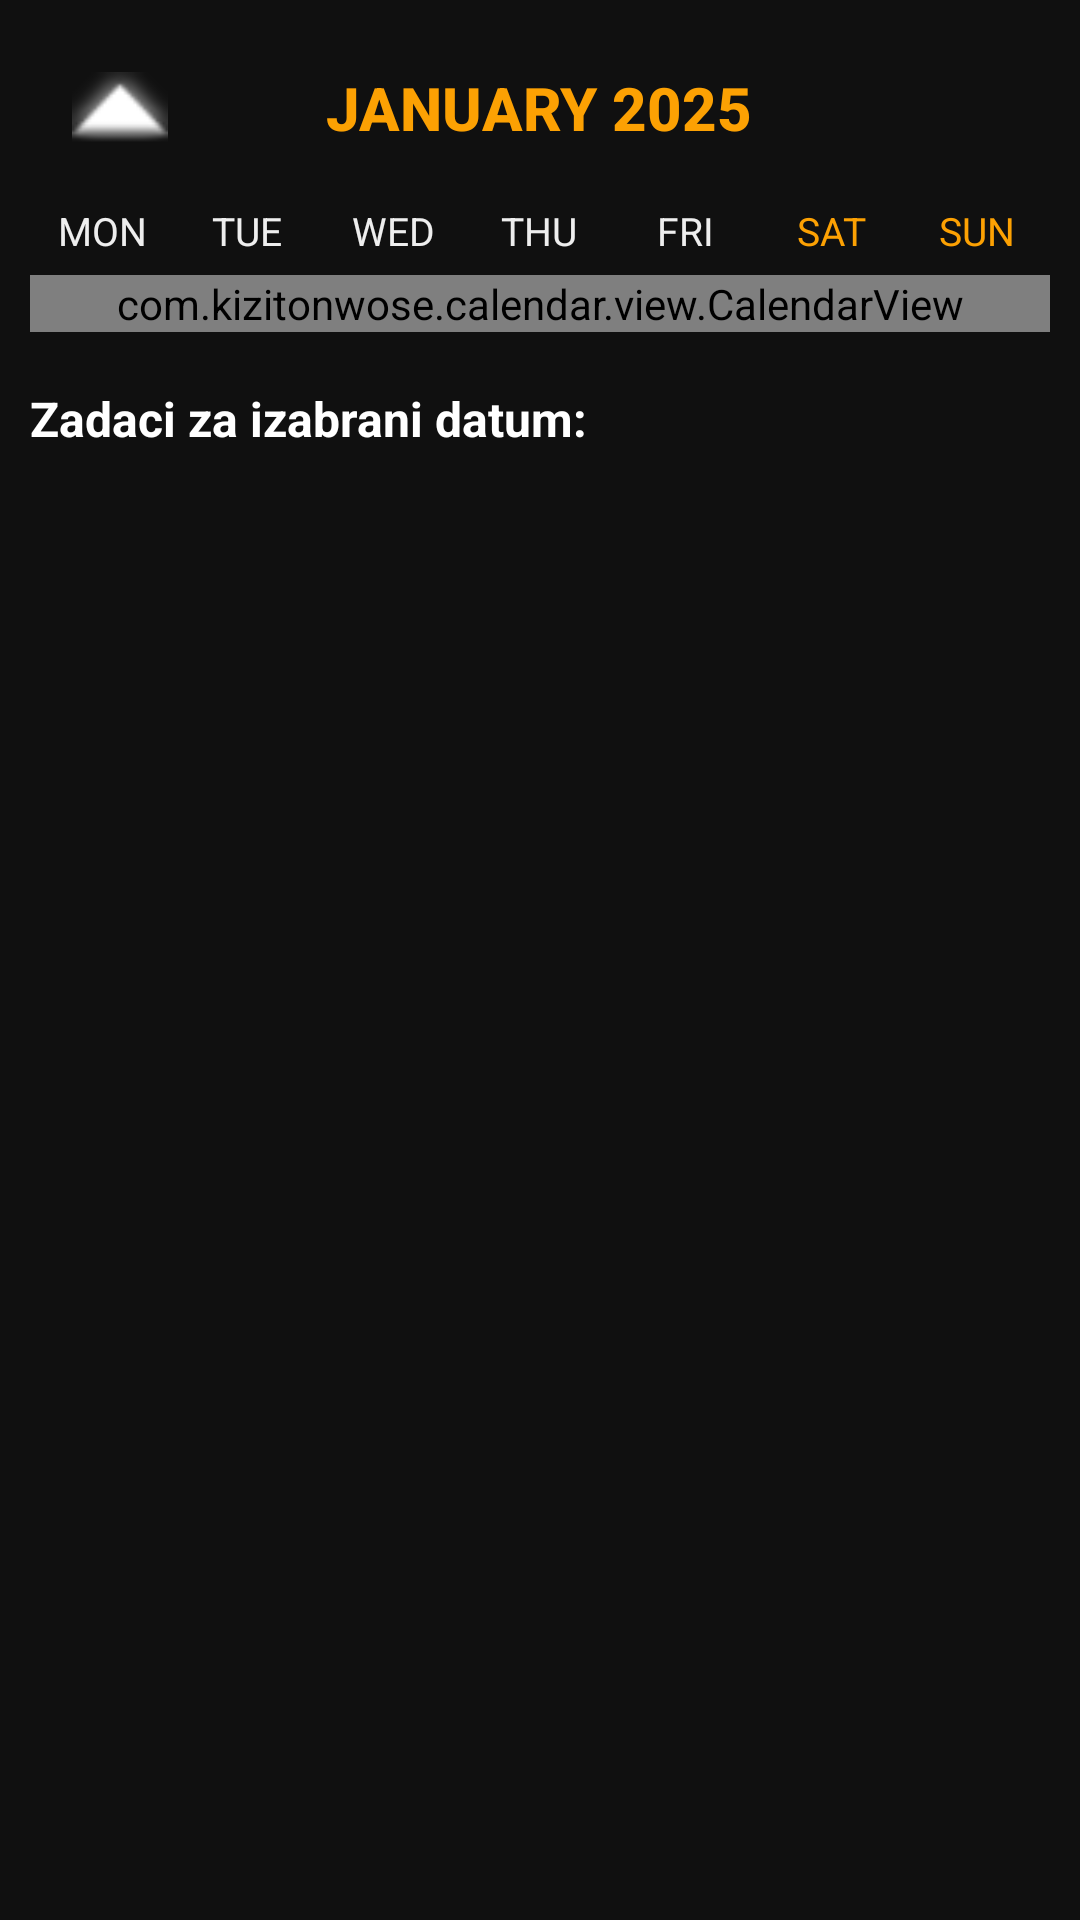

Where to tap for icons on this 1080w x 1920h app screen, as point (x, y):
arrow up float: point (120, 107)
